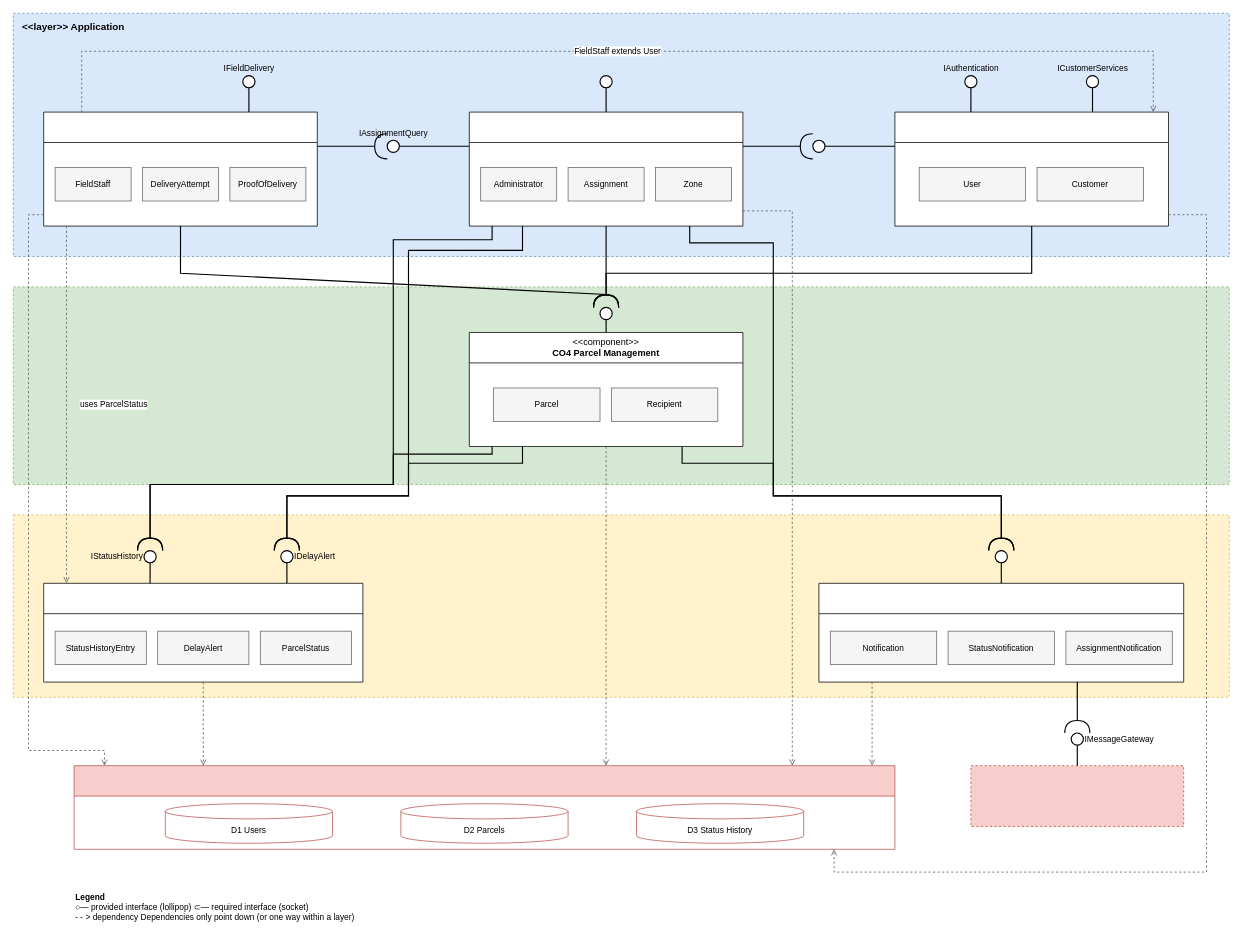
The diagram is 1243 pixels wide and 946 high, and some of its shapes have lost their labels. Here are the shapes that lost their labels. From the top down, the box of each, then its label:
(599, 75, 612, 88): IAdministration
(812, 139, 825, 153): IUserAdministration
(43, 111, 317, 226): <<component>> CO3 Field Delivery
(469, 111, 743, 226): <<component>> CO2 Administration & Assignment
(894, 111, 1168, 226): <<component>> CO1 Account Management
(599, 307, 612, 320): IParcelService
(13, 286, 1229, 484): <<layer>> Domain
(994, 550, 1008, 563): INotification
(13, 514, 1229, 697): <<layer>> Services
(43, 583, 363, 682): <<component>> CO5 Tracking & Monitoring
(818, 583, 1184, 682): <<component>> CO6 Notification
(73, 765, 895, 849): <<external>> Database
(970, 765, 1184, 826): <<external>> Email/SMS Gateway
